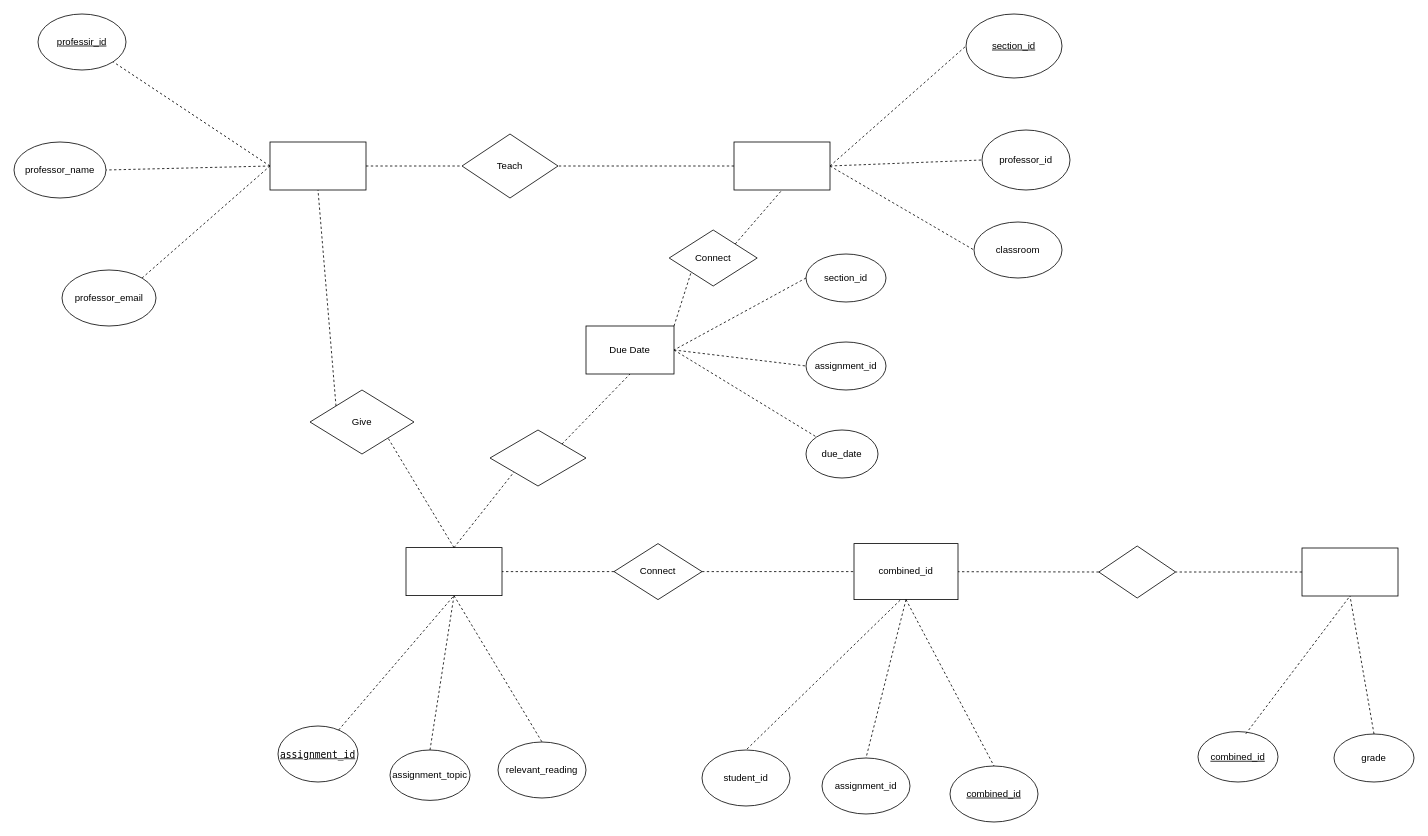
Image size: 1428x836. Some labels were removed from this diagram. Each missing label, with the centre of its shape:
"'s" belongs at point (537, 457).
"Assignment" belongs at point (453, 571).
"Professor" belongs at point (317, 165).
"Sections" belongs at point (781, 165).
"Sort" belongs at point (1137, 571).
"Student's assignments" belongs at point (1349, 571).
